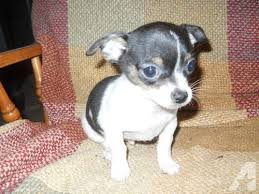chihuahua: (82, 21, 208, 180)
